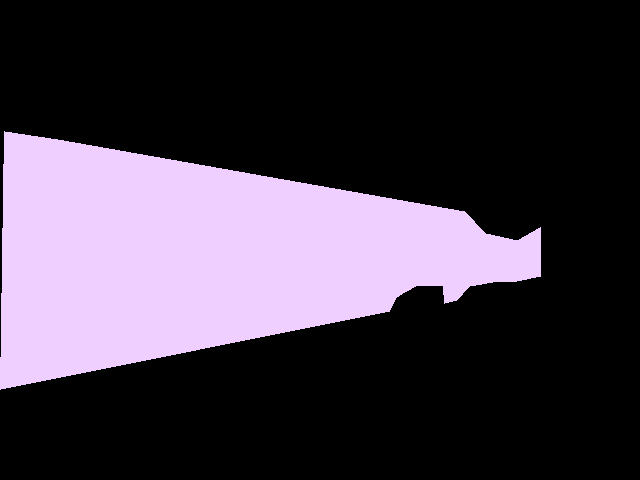Train: (0, 131, 540, 389)
